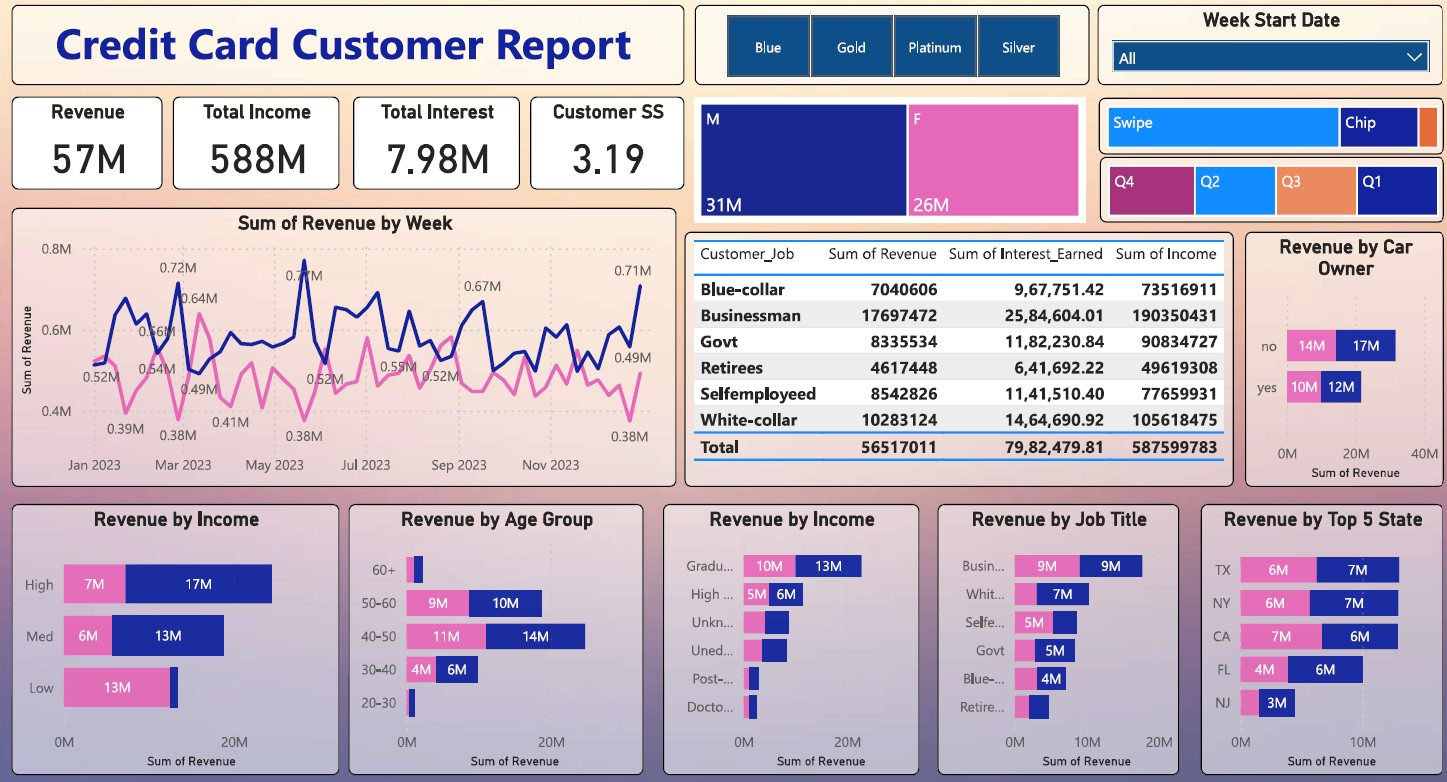

Layout of this report page (visuals, bound fields, positions):
{"tool":"powerbi","page":{"name":"Credit Card Customer","canvas":[1280,720],"ordinal":1},"visuals":[{"type":"textbox","box":[10,6.7,593.3,71.1],"z":0},{"type":"barChart","title":"Revenue by Income","fields":{"Y":["Sum(credit_card.Revenue)"],"Category":["customer.Income Group"],"Series":["customer.Gender"]},"box":[10,446.7,288.9,238.9],"z":1000},{"type":"tableEx","fields":{"Values":["customer.Customer_Job","Sum(credit_card.Revenue)","Sum(credit_card.Interest_Earned)","Sum(customer.Income)"]},"box":[603.3,206.7,483.3,225.6],"z":2000},{"type":"card","title":"Revenue","fields":{"Values":["Sum(credit_card.Revenue)"]},"box":[10,87.8,133.3,82.2],"z":3000},{"type":"card","title":"Total Income","fields":{"Values":["Sum(customer.Income)"]},"box":[152.2,87.8,146.7,82.2],"z":4000},{"type":"card","title":"Total Interest","fields":{"Values":["Sum(credit_card.Interest_Earned)"]},"box":[311.1,87.8,146.7,82.2],"z":5000},{"type":"card","title":"Customer SS","fields":{"Values":["Avg(customer.Cust_Satisfaction_Score)"]},"box":[466.7,87.8,136.7,82.2],"z":6000},{"type":"slicer","title":"Week Start Date","fields":{"Values":["credit_card.Week_Start_Date"]},"box":[966.7,6.7,305.6,71.1],"z":7000},{"type":"treemap","fields":{"Group":["credit_card.Qtr"],"Values":["CountNonNull(credit_card.Client_Num)"]},"box":[968.9,141.1,304.4,57.8],"z":8000},{"type":"slicer","fields":{"Values":["credit_card.Card_Category"]},"box":[612.2,6.7,347.8,71.1],"z":9000},{"type":"treemap","fields":{"Values":["CountNonNull(credit_card.Client_Num)"],"Group":["credit_card.Use Chip"]},"box":[967.8,88.9,305.6,50],"z":10000},{"type":"lineChart","title":"Sum of Revenue by Week","fields":{"Y":["Sum(credit_card.Revenue)"],"Series":["customer.Gender"],"Category":["credit_card.Week_Start_Date.Variation.Date Hierarchy.Year","credit_card.Week_Start_Date.Variation.Date Hierarchy.Month","credit_card.Week_Start_Date.Variation.Date Hierarchy.Day"]},"box":[10,185.6,585.6,246.7],"z":11000},{"type":"treemap","fields":{"Group":["customer.Gender"],"Values":["Sum(credit_card.Revenue)"]},"box":[611.8,89.4,344.7,109.4],"z":12000},{"type":"barChart","title":"Revenue by Age Group","fields":{"Y":["Sum(credit_card.Revenue)"],"Series":["customer.Gender"],"Category":["customer.Age Group"]},"box":[306.7,446.7,260,238.9],"z":13000},{"type":"barChart","title":"Revenue by Income","fields":{"Y":["Sum(credit_card.Revenue)"],"Series":["customer.Gender"],"Category":["customer.Education_Level"]},"box":[584.4,446.7,225.6,238.9],"z":14000},{"type":"barChart","title":"Revenue by Job Title","fields":{"Y":["Sum(credit_card.Revenue)"],"Series":["customer.Gender"],"Category":["customer.Customer_Job"]},"box":[825.6,446.7,213.3,238.9],"z":15000},{"type":"barChart","title":"Revenue by Top 5 State","fields":{"Y":["Sum(credit_card.Revenue)"],"Series":["customer.Gender"],"Category":["customer.state_cd"]},"box":[1057.8,446.7,214.4,238.9],"z":16000},{"type":"barChart","title":"Revenue by Car Owner","fields":{"Y":["Sum(credit_card.Revenue)"],"Series":["customer.Gender"],"Category":["customer.Car_Owner"]},"box":[1096.7,206.7,176.7,225.6],"z":17000}]}

Visuals, with their boxes on the page's 1280x720 design canvas (x1, y1, x2, y2). These are canvas units, not pixel positions in the 1447x782 screenshot, which may show the page scaled, cropped or inside an application window:
textbox: detection(10, 7, 603, 78)
"Revenue by Income" barChart: detection(10, 447, 299, 686)
tableEx - customer.Customer_Job x Sum(credit_card.Revenue): detection(603, 207, 1087, 432)
"Revenue" card: detection(10, 88, 143, 170)
"Total Income" card: detection(152, 88, 299, 170)
"Total Interest" card: detection(311, 88, 458, 170)
"Customer SS" card: detection(467, 88, 603, 170)
"Week Start Date" slicer: detection(967, 7, 1272, 78)
treemap - credit_card.Qtr x CountNonNull(credit_card.Client_Num): detection(969, 141, 1273, 199)
slicer - credit_card.Card_Category: detection(612, 7, 960, 78)
treemap - CountNonNull(credit_card.Client_Num) x credit_card.Use Chip: detection(968, 89, 1273, 139)
"Sum of Revenue by Week" lineChart: detection(10, 186, 596, 432)
treemap - customer.Gender x Sum(credit_card.Revenue): detection(612, 89, 956, 199)
"Revenue by Age Group" barChart: detection(307, 447, 567, 686)
"Revenue by Income" barChart: detection(584, 447, 810, 686)
"Revenue by Job Title" barChart: detection(826, 447, 1039, 686)
"Revenue by Top 5 State" barChart: detection(1058, 447, 1272, 686)
"Revenue by Car Owner" barChart: detection(1097, 207, 1273, 432)
